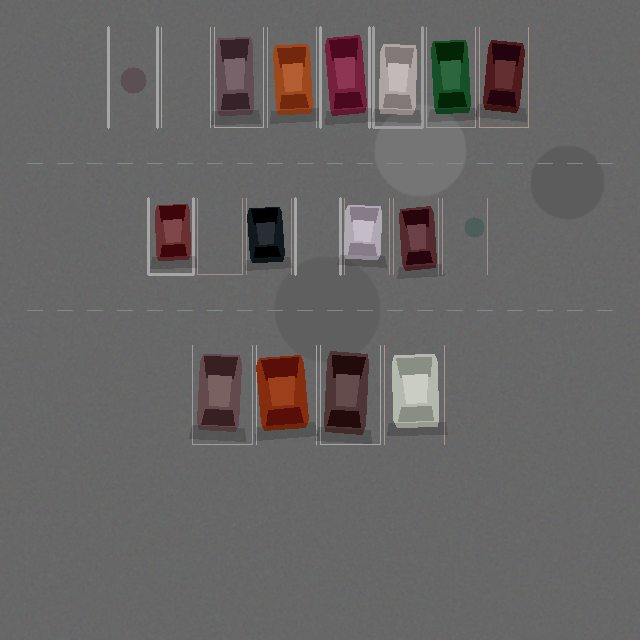space-empty: (108, 27, 157, 127), (161, 27, 210, 127), (197, 198, 242, 274), (295, 198, 340, 274), (442, 198, 487, 274)
space-occupied: (192, 345, 252, 444), (256, 345, 316, 444), (320, 345, 380, 444), (384, 345, 444, 444), (214, 27, 263, 127), (267, 27, 316, 127), (320, 27, 369, 127), (373, 27, 422, 127), (426, 27, 475, 127), (479, 27, 528, 127), (148, 198, 193, 274), (246, 198, 291, 274), (344, 198, 389, 274), (393, 198, 438, 274)
